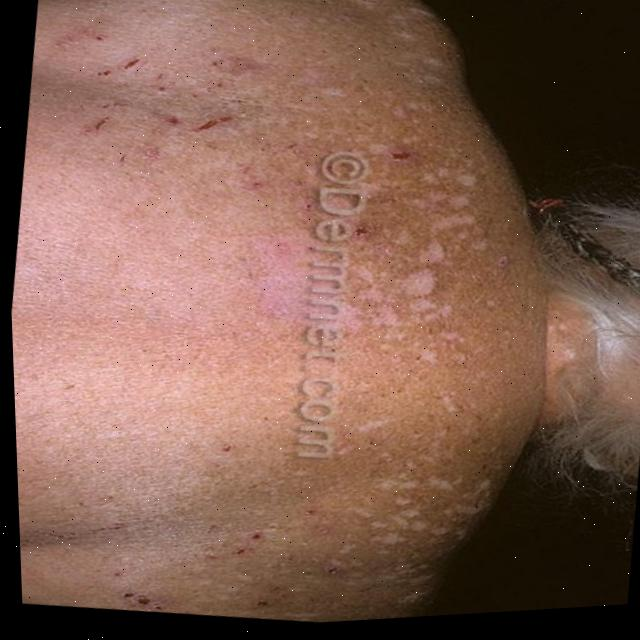Eczema: (89, 469, 363, 636), (35, 0, 253, 183)
